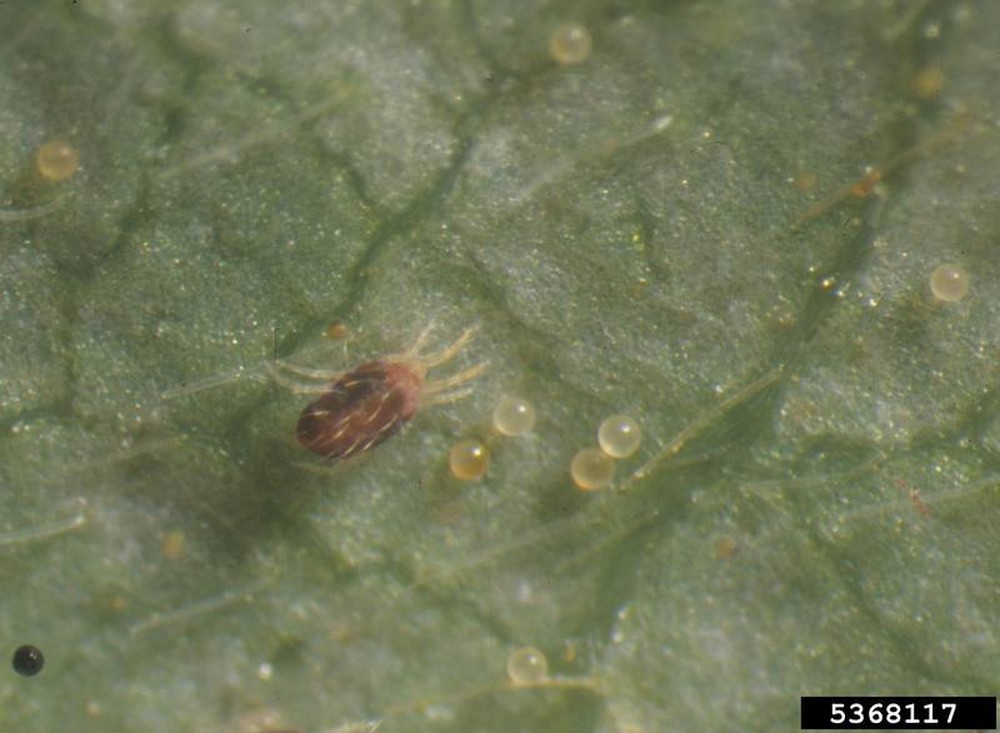Aracnido Rojo: (251, 290, 507, 488)
